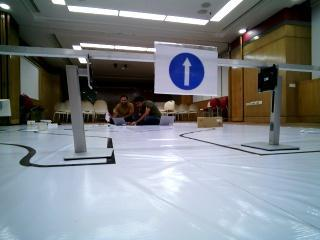straight: (155, 42, 217, 96)
